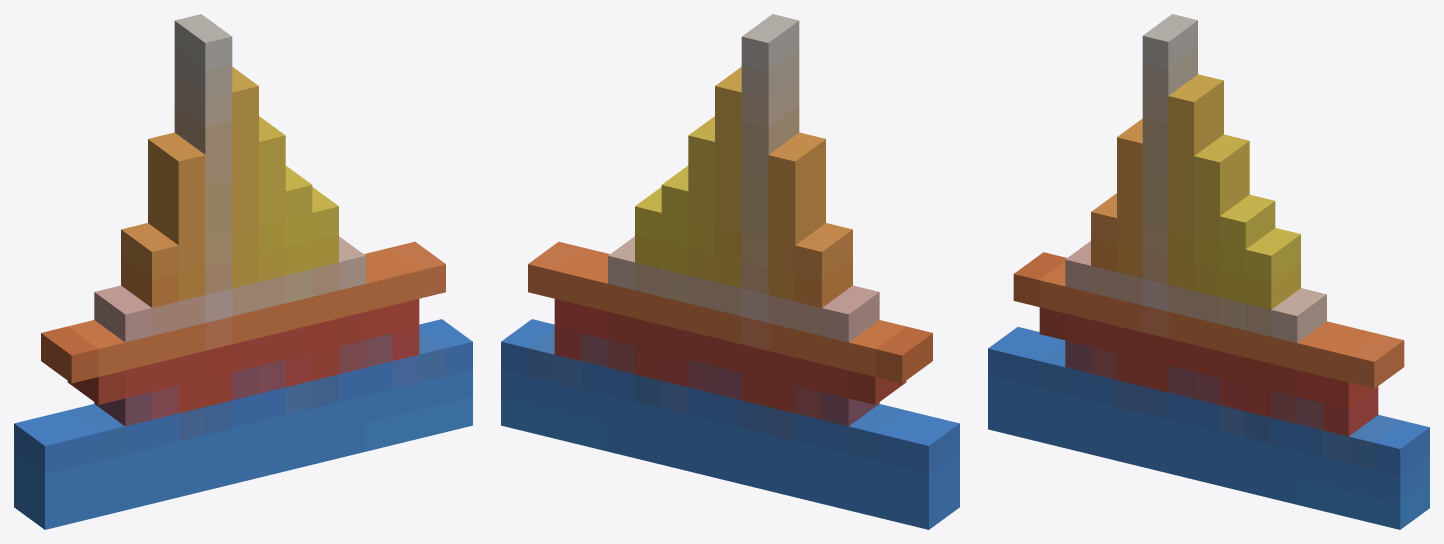
File: sailboat.glb
The picture shows the model from 3 angles, left to right: view 1: azimuth 30°, elevation 25°; view 2: azimuth 150°, elevation 25°; view 3: azimuth 330°, elevation 25°; orthographic projection. The views are drawn at different scales.
Parts seen in each view (by area): view 1: prop; view 2: prop; view 3: prop.
Part boxes in pixels (box(x1,y1,x2,y2)): prop: box(14, 14, 472, 529); prop: box(501, 14, 959, 529); prop: box(988, 14, 1429, 529).
Bounding box in the file's own units: 16 × 16 × 2.
